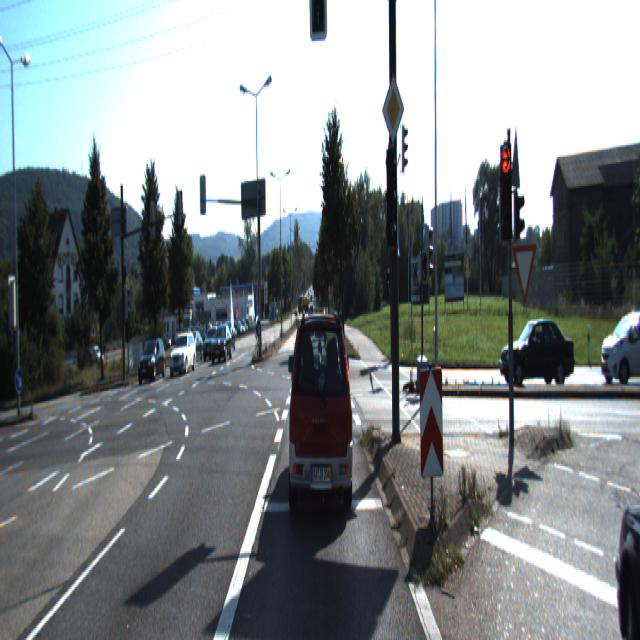Car: (288, 308, 354, 516), (604, 369, 640, 638), (499, 312, 576, 392), (601, 306, 639, 382), (138, 338, 166, 382), (169, 334, 196, 378), (210, 327, 233, 366)
